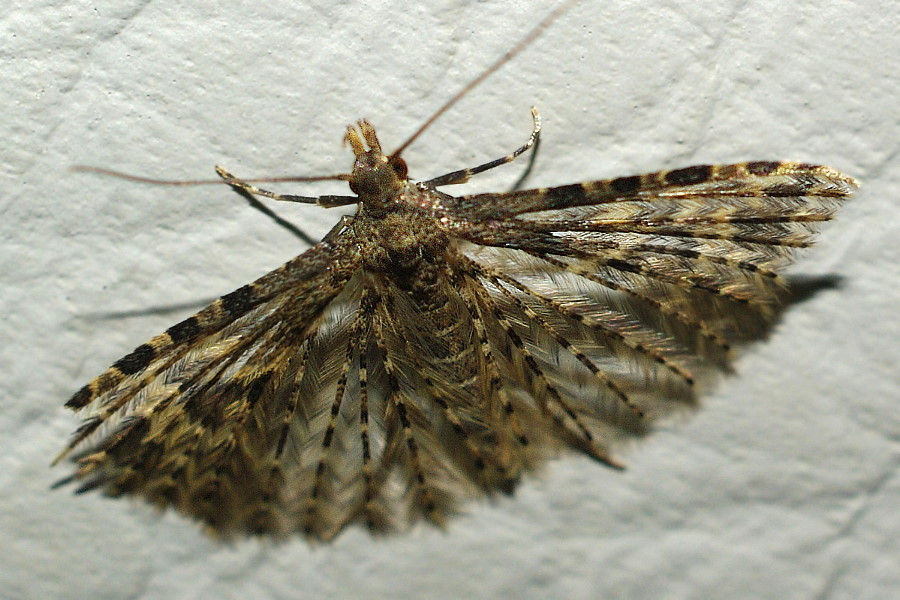Alucitidae: (42, 1, 858, 564)
moth: (40, 1, 850, 562)
